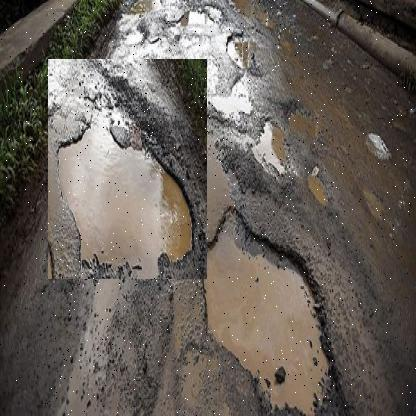pothole_water: (48, 59, 209, 280), (191, 189, 343, 415)
